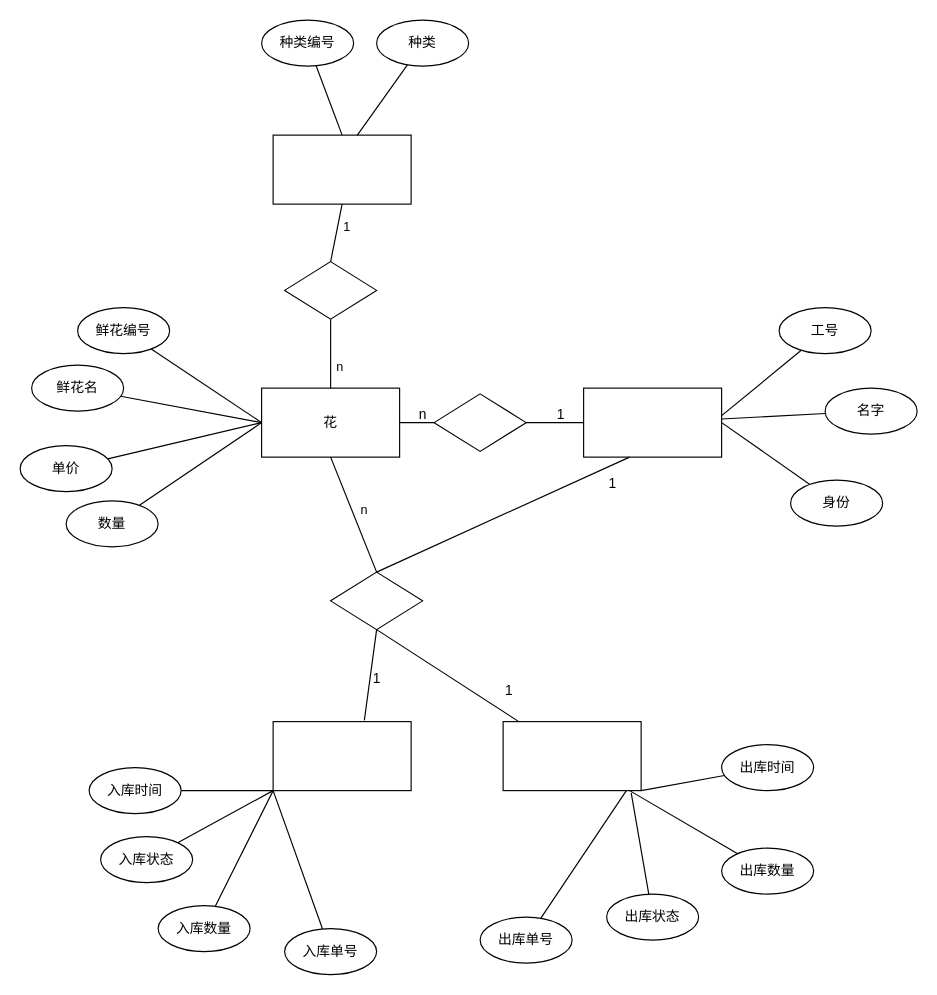
This 937x995 diagram has some shape labels left out. The box of each missing label's shape, as (x1, y1, x2, y2) in pixels:
入库订单: (272, 720, 411, 791)
出库订单: (502, 720, 641, 791)
包含: (329, 571, 423, 630)
属于: (283, 260, 377, 319)
管理: (433, 393, 526, 451)
管理员: (582, 387, 722, 457)
类别: (272, 134, 411, 204)
